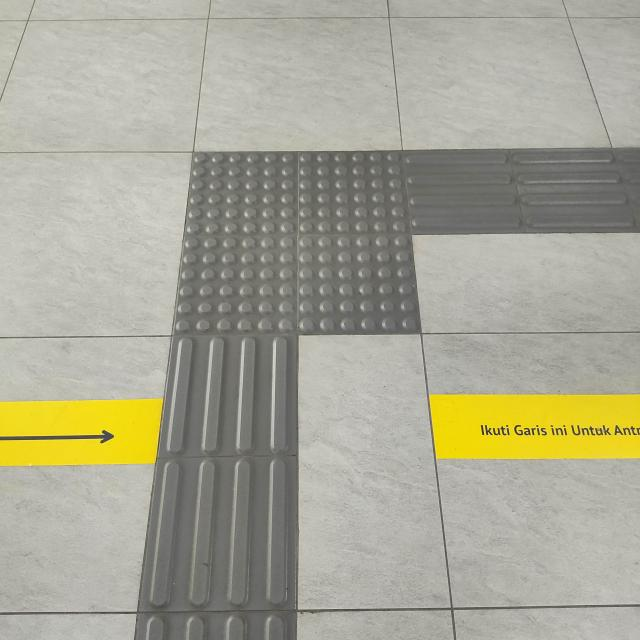kanan: (122, 113, 615, 383)
